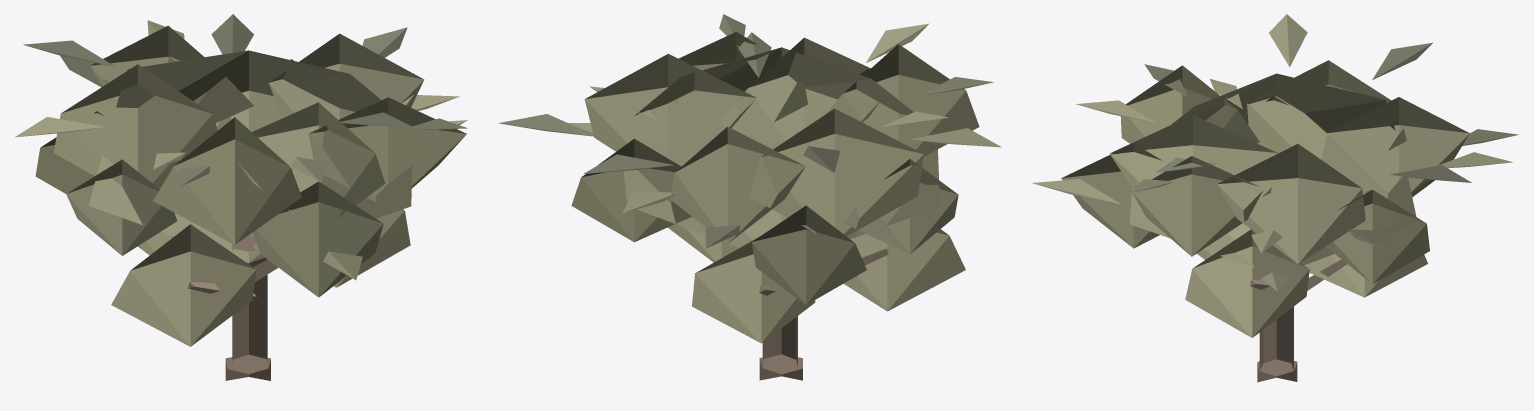
File: shu.chuilui__winter.glb
The picture shows the model from 3 angles, left to right: view 1: azimuth 30°, elevation 25°; view 2: azimuth 150°, elevation 25°; view 3: azimuth 270°, elevation 25°; orthographic projection. The views are drawn at different scales.
Parts seen in each view (by area): view 1: shu.chuilui__winter; view 2: shu.chuilui__winter; view 3: shu.chuilui__winter.
Boxes of the visible parts, x1,y1,x2,y2 form: shu.chuilui__winter: (15,14,467,380); shu.chuilui__winter: (498,14,1001,380); shu.chuilui__winter: (1032,14,1518,382).
Size of the model in its own units: 15.32 by 10.49 by 15.84.
